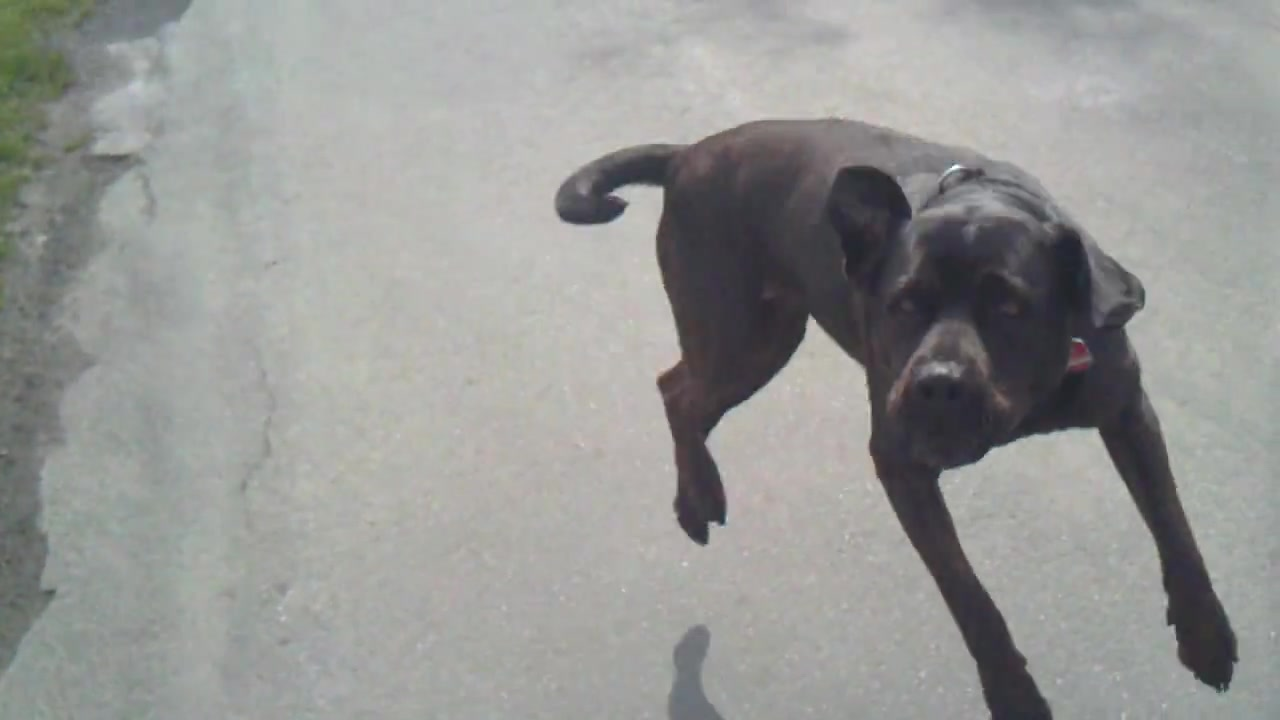dog: (555, 118, 1240, 720)
